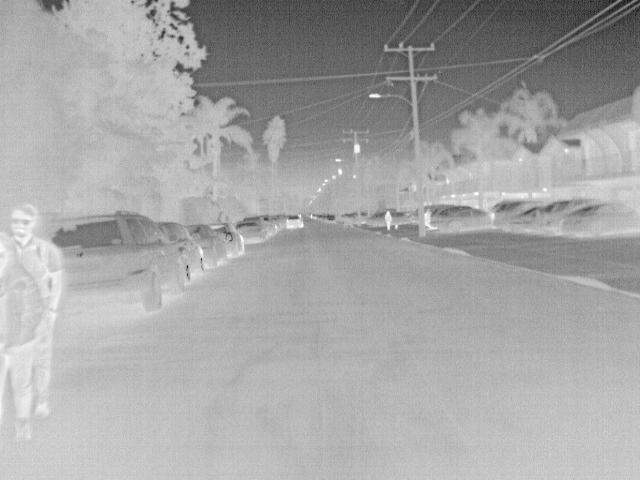car: (44, 211, 192, 311), (559, 202, 640, 242), (154, 221, 206, 280), (536, 199, 596, 236), (430, 206, 494, 234), (193, 225, 229, 269), (495, 200, 534, 228), (214, 225, 246, 258), (505, 208, 539, 236), (234, 219, 266, 244), (248, 214, 275, 238), (283, 213, 303, 229), (323, 212, 337, 224)
person: (4, 204, 65, 418), (2, 230, 47, 439), (382, 208, 395, 234)
